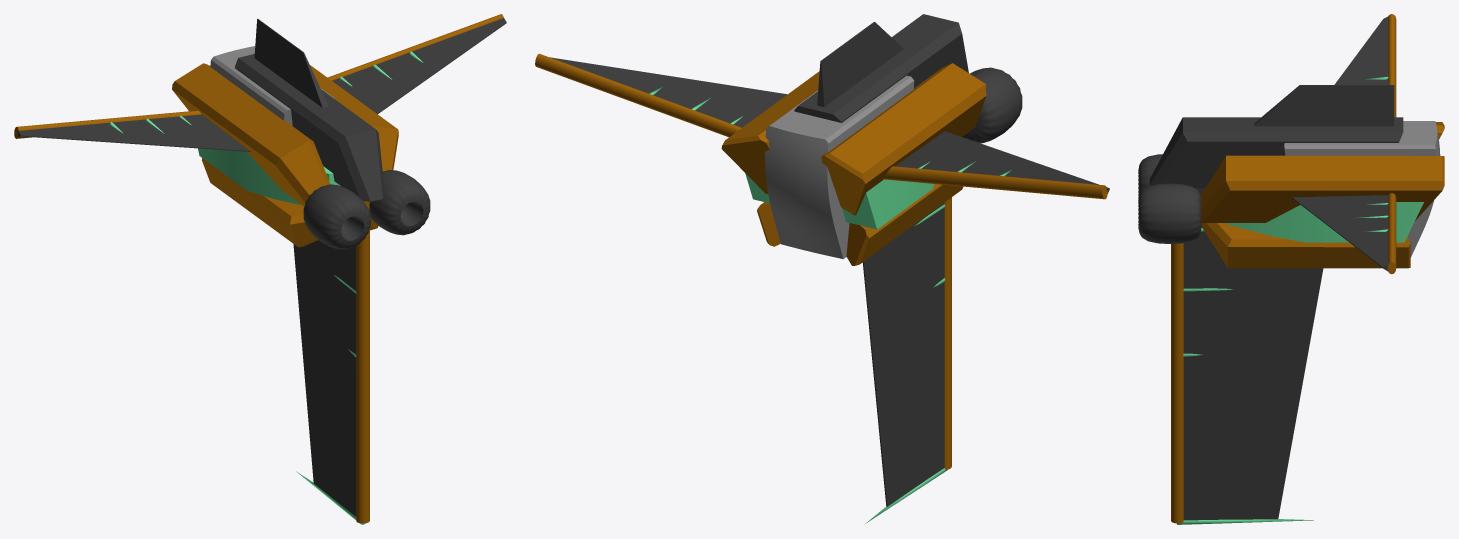
The model's file is VerticalShip.fbx.
The picture shows the model from 3 angles, left to right: view 1: azimuth 30°, elevation 25°; view 2: azimuth 150°, elevation 25°; view 3: azimuth 270°, elevation 25°; orthographic projection. The views are drawn at different scales.
Visible parts, largest first — view 1: pCube1, pCube11 (×2), pCube3, pCube2, pCylinder1, pCylinder5, pCylinder4, pCube6, pCube9, pCube5, pCylinder7 (×2), pCube4 (+1 smaller); view 2: pCube1, pCube8, pCube3, pCube11 (×2), pCylinder7 (×2), pCube2, pCube9, pCube4, pCube6, pCube5, pCylinder5, pCylinder1; view 3: pCube1, pCube4, pCube2, pCube11 (×2), pCube7, pCube9, pCylinder1, pCylinder4, pCube8, pCube5, pCylinder7 (×2), pCylinder5 (+1 smaller).
Boxes of the visible parts, left/top/right/bottom form: pCube1: left=293, top=240, right=356, bottom=516; pCube11 (×2): left=18, top=18, right=506, bottom=151; pCube3: left=172, top=63, right=330, bottom=206; pCube2: left=235, top=54, right=384, bottom=201; pCylinder1: left=356, top=201, right=369, bottom=523; pCylinder5: left=303, top=184, right=370, bottom=249; pCylinder4: left=369, top=170, right=430, bottom=235; pCube6: left=202, top=158, right=317, bottom=247; pCube9: left=254, top=19, right=328, bottom=107; pCube5: left=190, top=110, right=340, bottom=205; pCylinder7 (×2): left=14, top=14, right=503, bottom=138; pCube4: left=310, top=65, right=398, bottom=171; pCube1: left=862, top=203, right=944, bottom=506; pCube8: left=765, top=75, right=914, bottom=259; pCube3: left=821, top=63, right=986, bottom=215; pCube11 (×2): left=550, top=57, right=1109, bottom=193; pCylinder7 (×2): left=535, top=53, right=1107, bottom=199; pCube2: left=794, top=14, right=968, bottom=122; pCube9: left=817, top=22, right=903, bottom=107; pCube4: left=721, top=71, right=819, bottom=193; pCube6: left=846, top=184, right=962, bottom=265; pCube5: left=745, top=173, right=933, bottom=229; pCylinder5: left=962, top=67, right=1022, bottom=143; pCylinder1: left=944, top=197, right=951, bottom=469; pCube1: left=1183, top=188, right=1323, bottom=520; pCube4: left=1200, top=155, right=1444, bottom=222; pCube2: left=1149, top=117, right=1403, bottom=187; pCube11 (×2): left=1292, top=16, right=1388, bottom=271; pCube7: left=1201, top=223, right=1410, bottom=268; pCube9: left=1254, top=85, right=1394, bottom=126; pCylinder1: left=1171, top=243, right=1183, bottom=523; pCylinder4: left=1138, top=183, right=1201, bottom=243; pCube8: left=1284, top=121, right=1440, bottom=257; pCube5: left=1222, top=202, right=1423, bottom=242; pCylinder7 (×2): left=1387, top=14, right=1396, bottom=274; pCylinder5: left=1138, top=154, right=1162, bottom=198.
Bounding box in the file's own units: 18.32 × 15.39 × 9.72.
